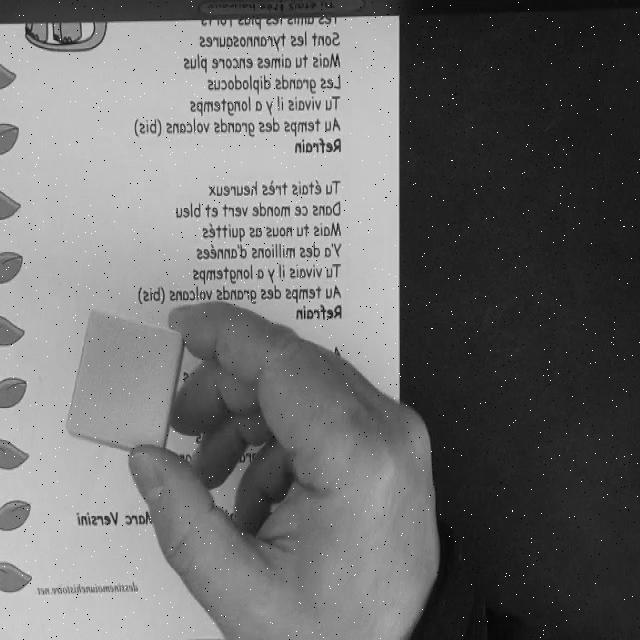square: (65, 307, 185, 460)
